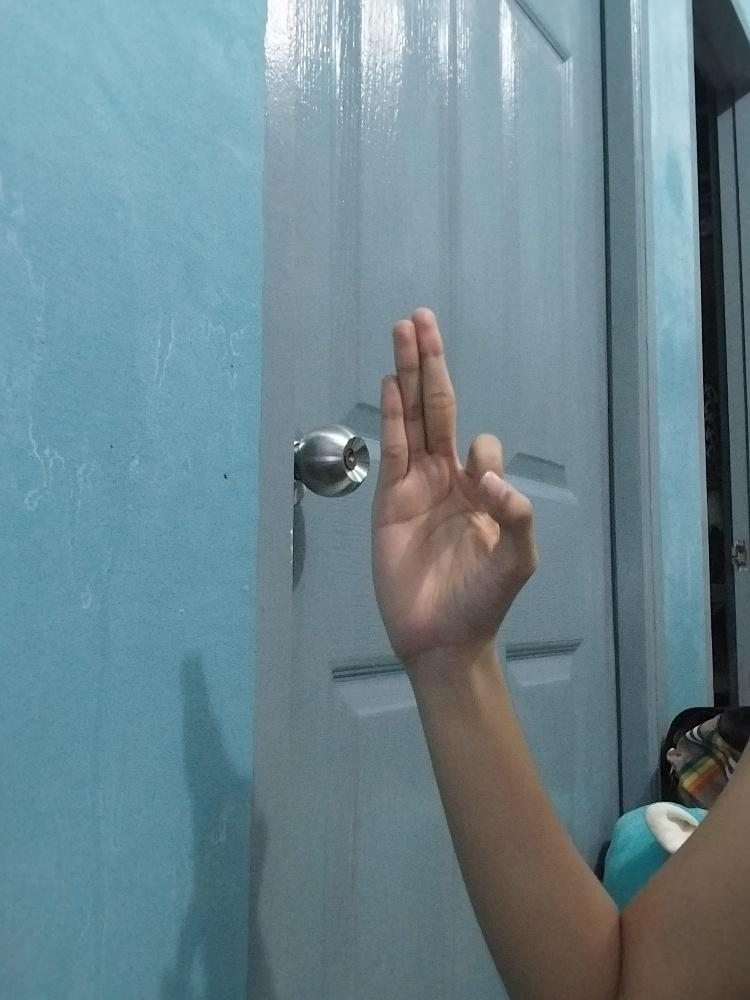f: (374, 306, 535, 643)
